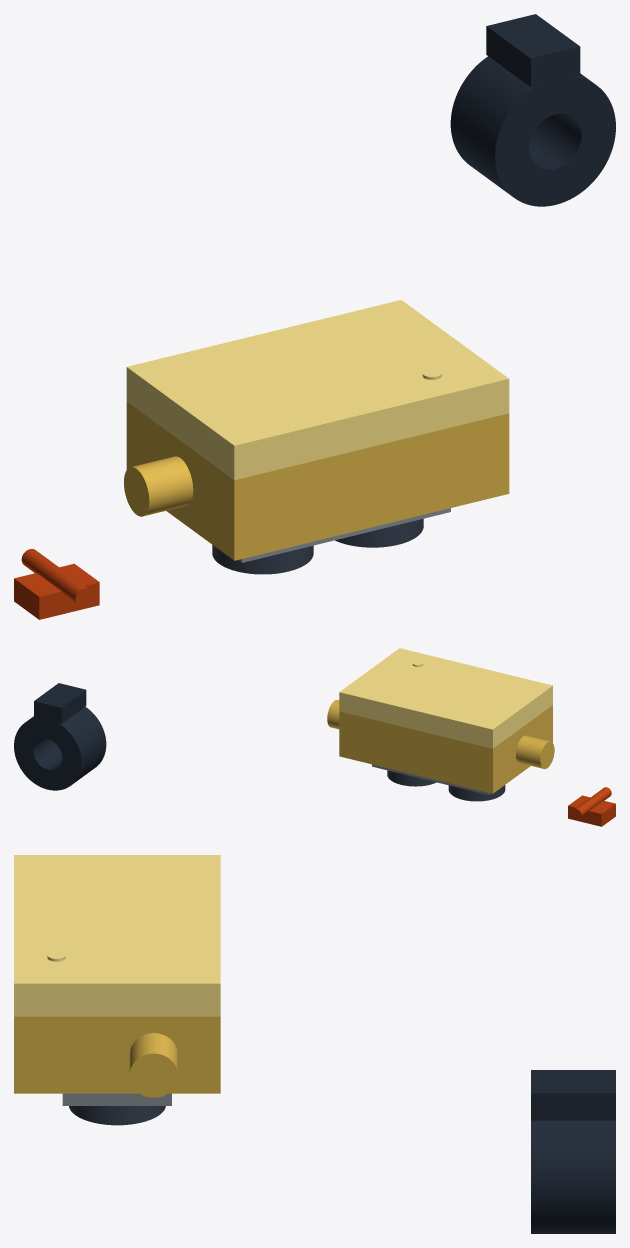
3 renders of one model, top to bottom at view 1: azimuth 30°, elevation 25°; view 2: azimuth 150°, elevation 25°; view 3: azimuth 270°, elevation 25°, orthographic. The views are drawn at different scales.
Parts seen in each view (by area): view 1: Enclosure lid with LED window, Enclosure base with cable glands, Split-core current transformer, Surface temperature probe, Pot magnets, 32 mm, pair, Aluminium sensor block; view 2: Enclosure lid with LED window, Enclosure base with cable glands, Split-core current transformer, Surface temperature probe, Pot magnets, 32 mm, pair, Aluminium sensor block; view 3: Enclosure lid with LED window, Enclosure base with cable glands, Split-core current transformer, Pot magnets, 32 mm, pair, Aluminium sensor block.
Boxes of the visible parts, bbox=[...] form: Enclosure lid with LED window: bbox=[126, 300, 509, 480]; Enclosure base with cable glands: bbox=[124, 402, 509, 560]; Split-core current transformer: bbox=[450, 14, 615, 206]; Surface temperature probe: bbox=[14, 549, 99, 619]; Pot magnets, 32 mm, pair: bbox=[212, 518, 423, 574]; Aluminium sensor block: bbox=[238, 508, 450, 562]; Enclosure lid with LED window: bbox=[339, 648, 552, 748]; Enclosure base with cable glands: bbox=[327, 700, 554, 793]; Split-core current transformer: bbox=[14, 683, 106, 790]; Surface temperature probe: bbox=[568, 787, 615, 826]; Pot magnets, 32 mm, pair: bbox=[387, 770, 505, 801]; Aluminium sensor block: bbox=[372, 764, 490, 794]; Enclosure lid with LED window: bbox=[14, 855, 220, 1016]; Enclosure base with cable glands: bbox=[14, 1016, 220, 1097]; Split-core current transformer: bbox=[531, 1070, 615, 1233]; Pot magnets, 32 mm, pair: bbox=[69, 1106, 165, 1125]; Aluminium sensor block: bbox=[62, 1093, 171, 1105].
Bounding box in the file's own units: 0.293 × 0.076 × 0.198.
